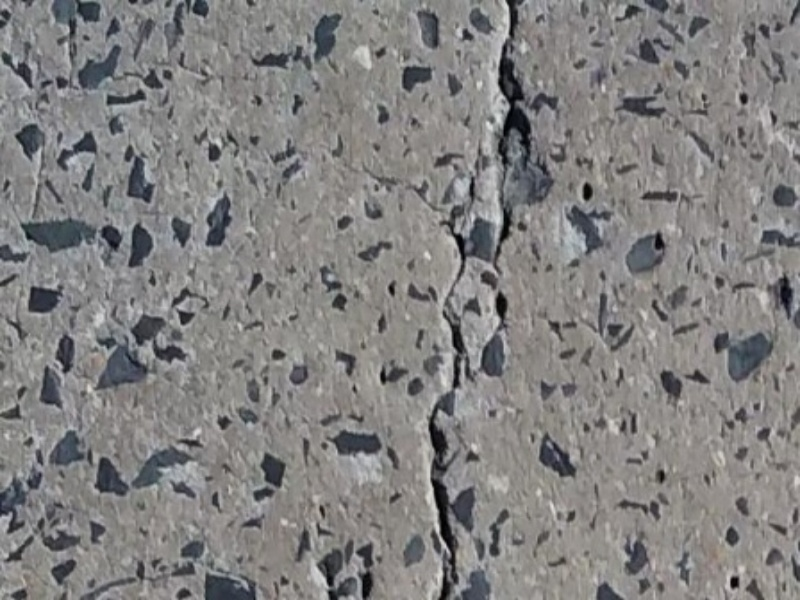crack: (412, 188, 489, 600), (473, 6, 542, 271)
